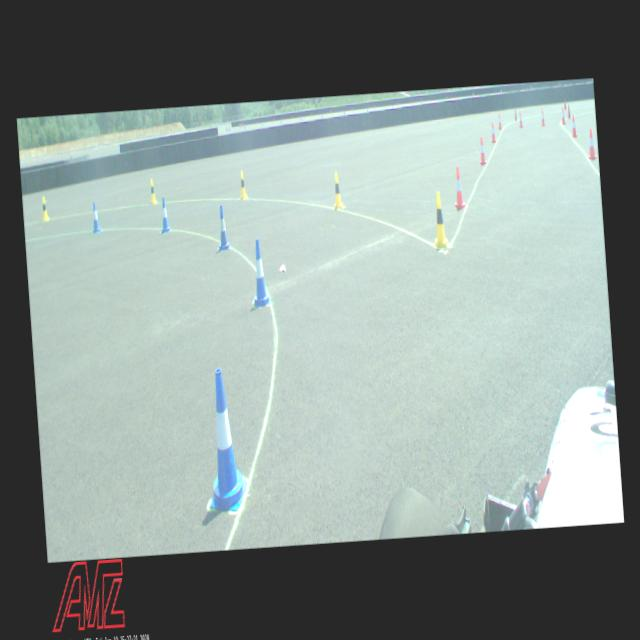blue_cone: (200, 367, 248, 512), (250, 238, 270, 308), (215, 204, 231, 250), (158, 196, 172, 232), (90, 201, 100, 233)
orange_cone: (452, 166, 465, 208), (586, 128, 597, 158), (478, 136, 486, 164), (570, 115, 577, 136), (490, 121, 496, 142), (518, 110, 524, 128), (560, 107, 566, 124), (540, 108, 545, 126), (497, 112, 502, 129)
yellow_cone: (431, 192, 448, 248), (332, 172, 344, 208), (239, 170, 247, 198), (40, 196, 49, 220), (148, 178, 156, 203)
